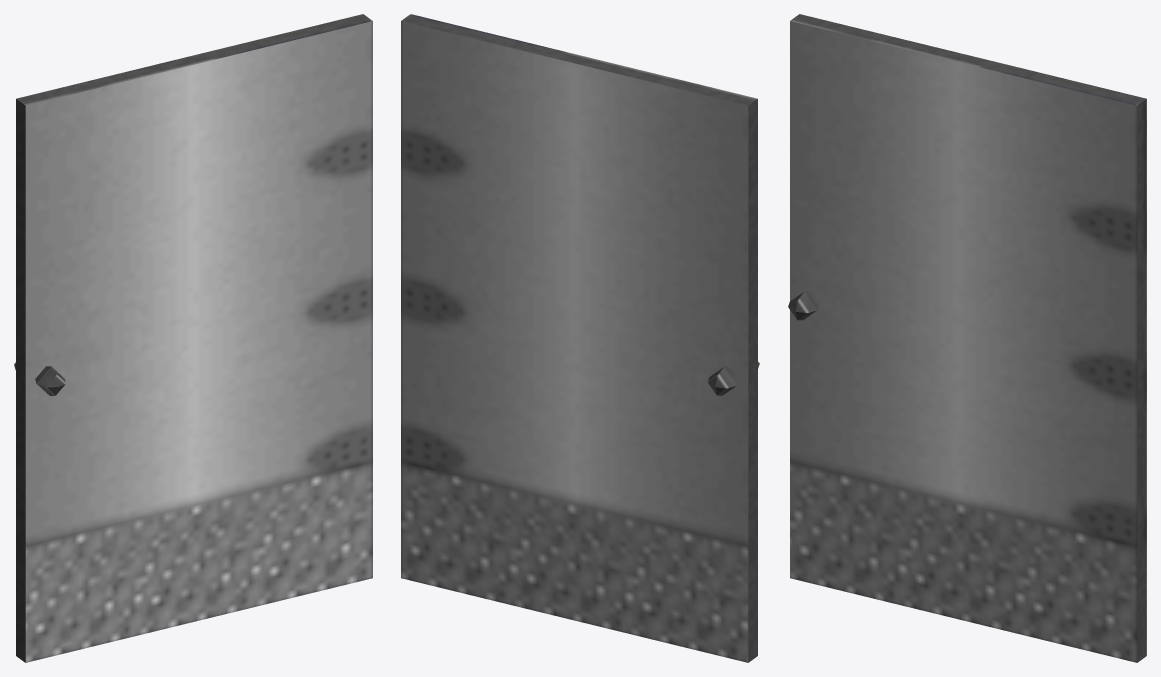
The model's file is metaldoor.fbx.
3 renders of one model, left to right at view 1: azimuth 30°, elevation 25°; view 2: azimuth 150°, elevation 25°; view 3: azimuth 330°, elevation 25°, orthographic.
Parts seen in each view (by area): view 1: Freezer Door; view 2: Freezer Door; view 3: Freezer Door.
Part boxes in pixels (box(x1,y1,x2,y2)): Freezer Door: box(14, 14, 372, 662); Freezer Door: box(401, 14, 759, 662); Freezer Door: box(788, 14, 1146, 662).
Size of the model in its own units: 1.61 by 0.2991 by 2.47.
1 material, 1 textured.
